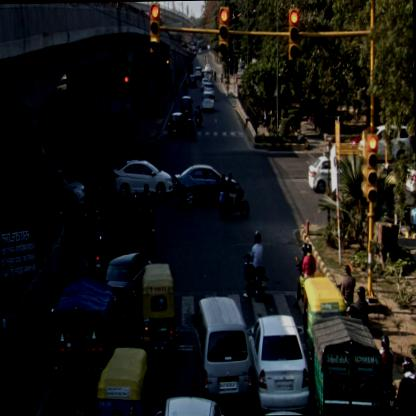car: (190, 294, 252, 400), (248, 315, 310, 412), (102, 249, 148, 326), (174, 162, 240, 202), (42, 157, 88, 210), (113, 158, 173, 195), (152, 396, 227, 415), (96, 130, 132, 157), (166, 110, 188, 136), (200, 92, 215, 112), (180, 96, 192, 116), (202, 80, 214, 99), (188, 75, 196, 86)
motorcycle: (243, 230, 267, 300), (217, 170, 249, 218), (290, 245, 314, 308), (376, 336, 395, 412), (134, 184, 154, 246), (88, 219, 103, 277), (186, 120, 196, 143), (194, 104, 202, 125)
truck: (48, 277, 116, 415), (311, 312, 380, 414)
